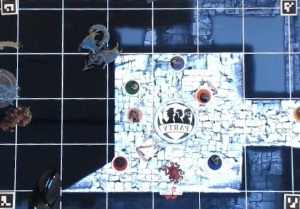blue: (203, 151, 223, 171)
green: (124, 78, 141, 96)
orange: (195, 87, 213, 104)
pink: (127, 106, 147, 125)
red: (108, 152, 131, 174)
violet: (168, 52, 188, 72)
yellow: (292, 100, 300, 128)
